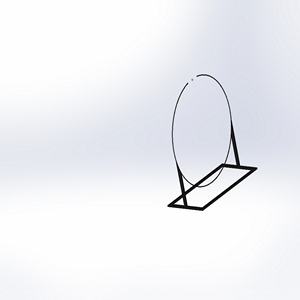circle: (166, 72, 258, 213)
